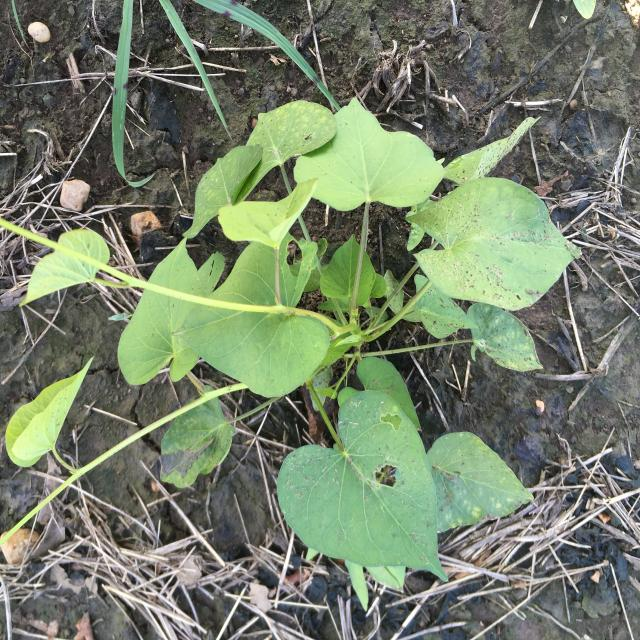MorningGlory: (0, 96, 582, 611)
